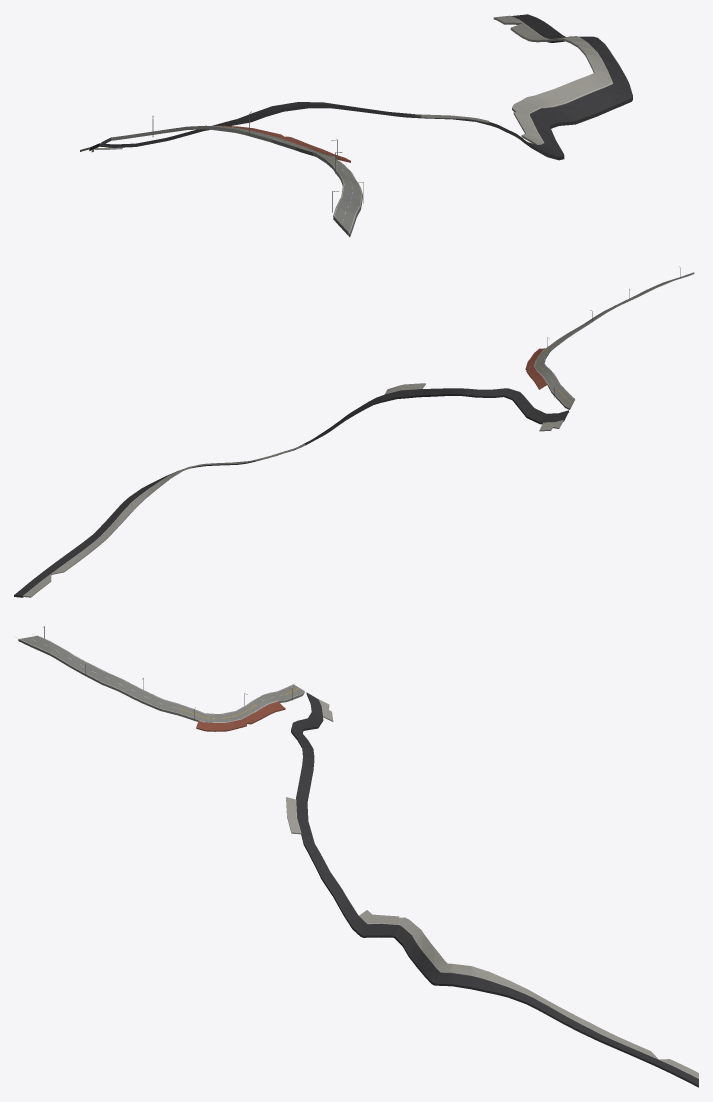
3 renders of one model, top to bottom at view 1: azimuth 30°, elevation 25°; view 2: azimuth 150°, elevation 25°; view 3: azimuth 270°, elevation 25°, orthographic. The views are drawn at different scales.
Size of the model in its own units: 281 by 149 by 374.
